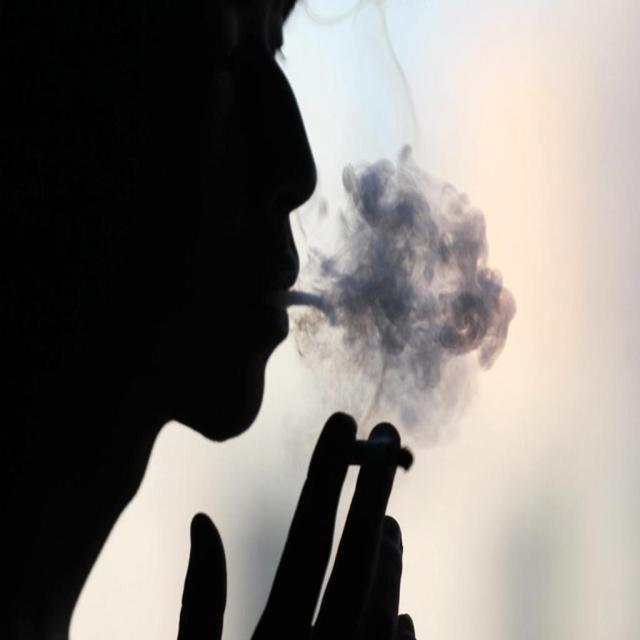smoking: (108, 5, 512, 640)
